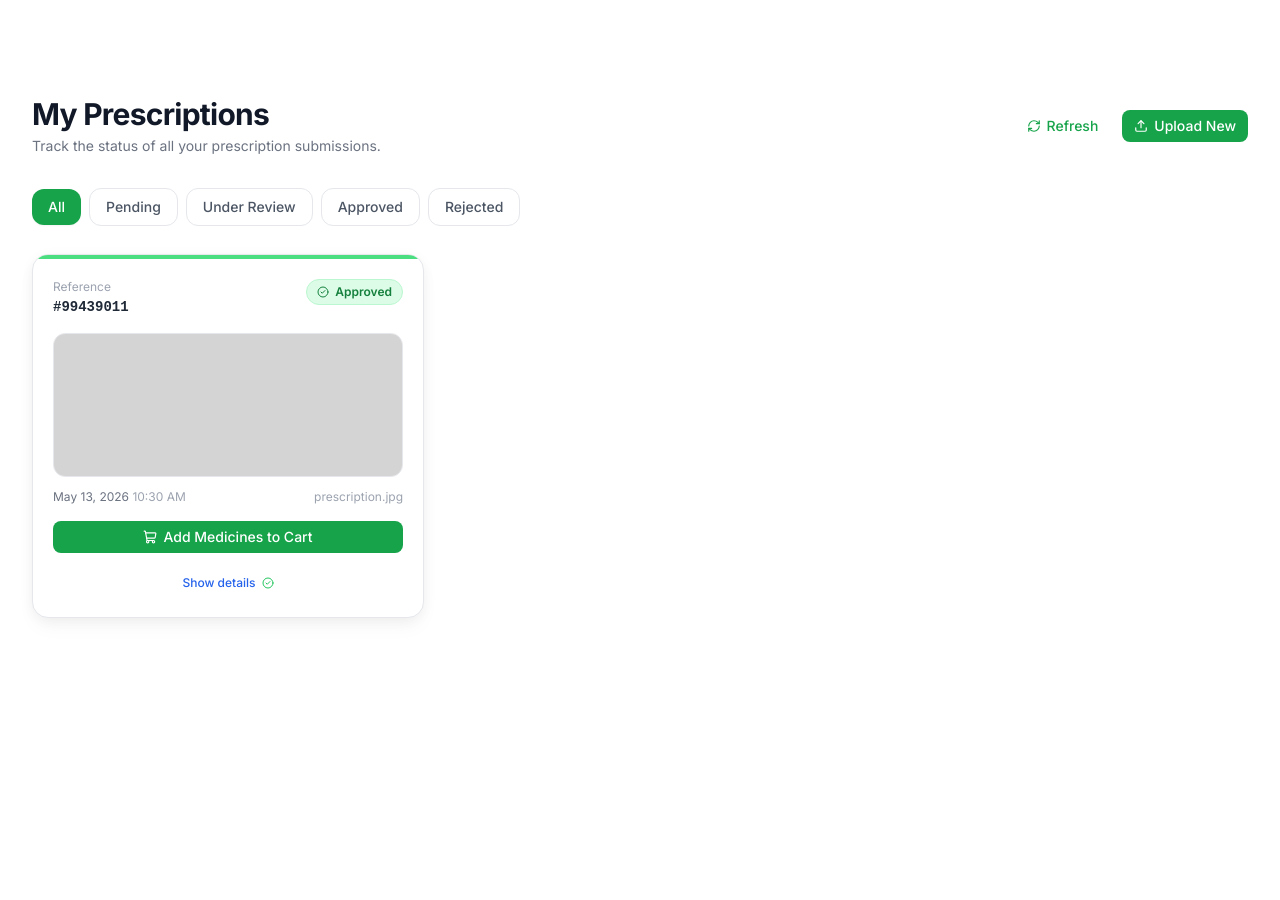
Pharmacist info › shows pharmacist name when assigned
Click the button with test id "expand-button" at (228, 583), box [53,569,403,597]
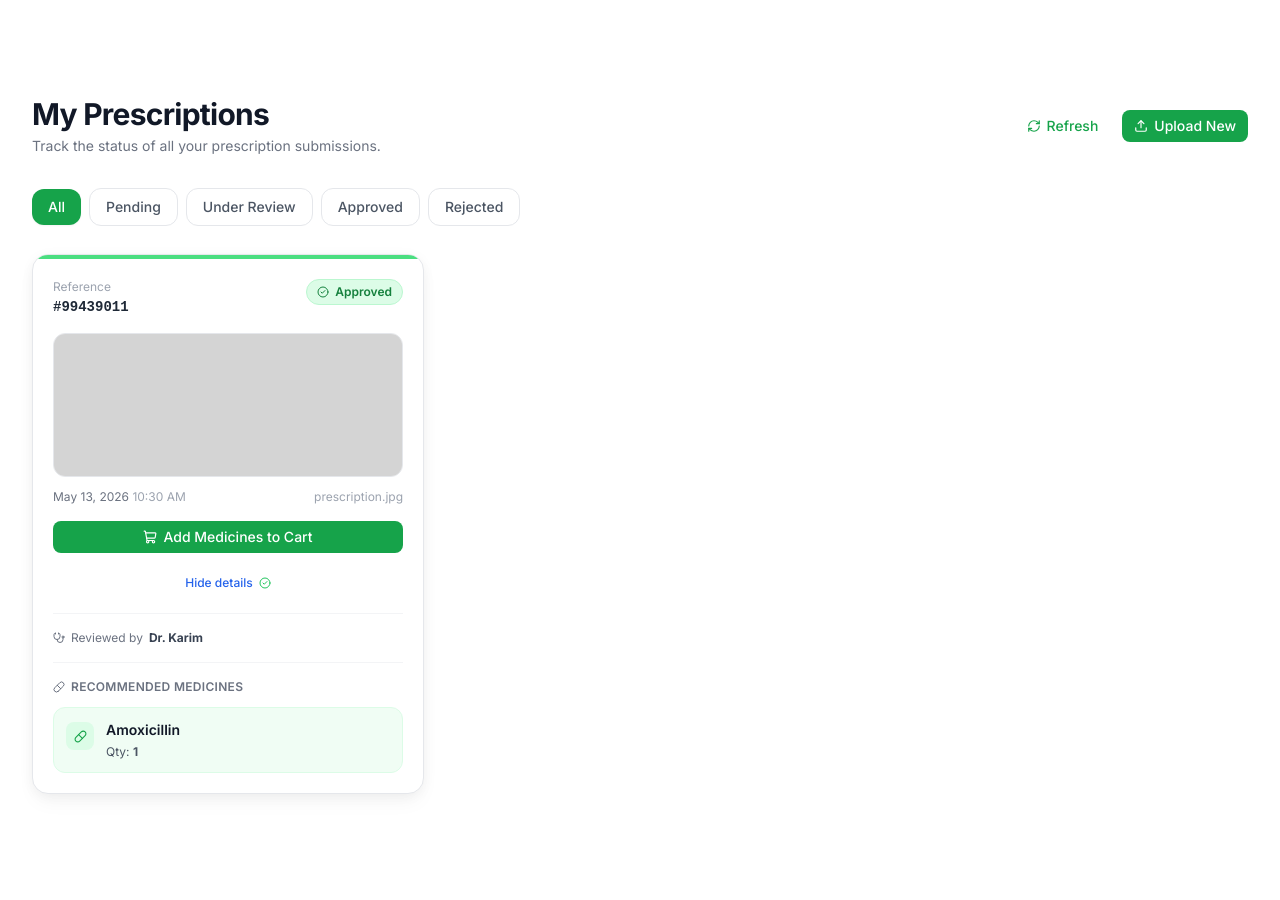
Check: the element with test id "pharmacist-notes" is shown, box [53,613,403,646]
Check: the text "Dr. Karim" is shown, box [149,630,203,646]
